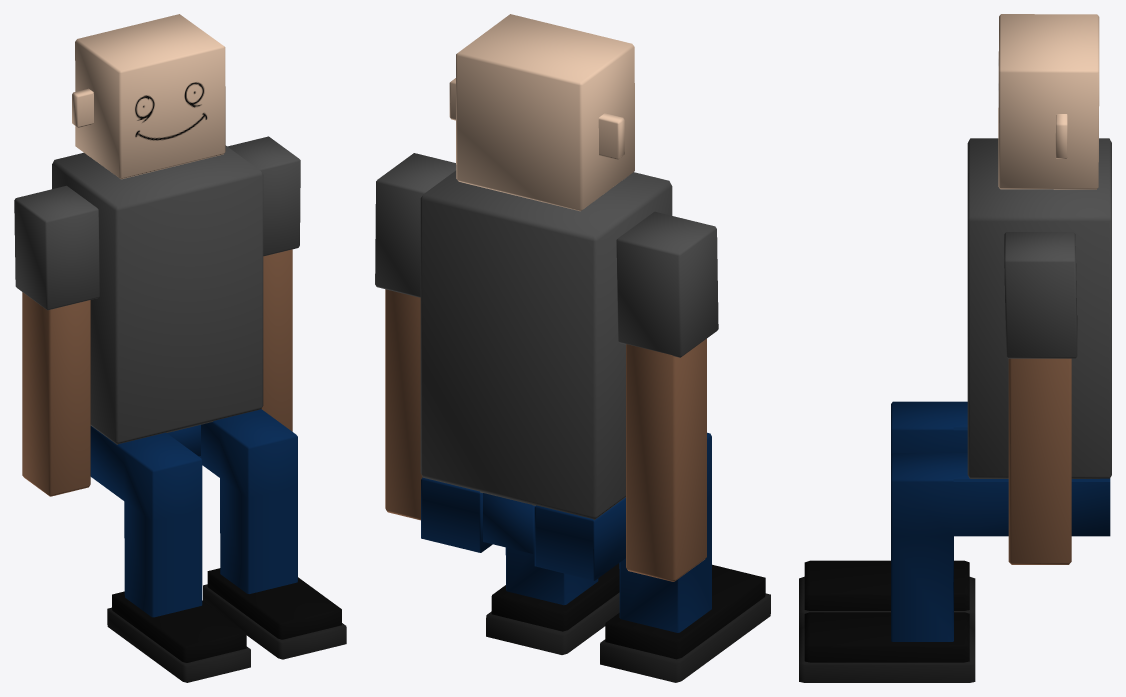
File: GenericSitting.FBX
3 renders of one model, left to right at view 1: azimuth 30°, elevation 25°; view 2: azimuth 150°, elevation 25°; view 3: azimuth 270°, elevation 25°, orthographic. The views are drawn at different scales.
Parts seen in each view (by area): view 1: Body, Ass, RArm, Head, LArm; view 2: Body, Ass, RArm, Head, LArm; view 3: Ass, Body, LArm, Head.
Part boxes in pixels (left/top/right/bottom): Body: left=52, top=145, right=263, bottom=444; Ass: left=90, top=409, right=346, bottom=682; RArm: left=14, top=185, right=99, bottom=496; Head: left=72, top=14, right=225, bottom=179; LArm: left=227, top=136, right=300, bottom=431; Body: left=420, top=170, right=672, bottom=520; Ass: left=421, top=432, right=770, bottom=682; RArm: left=616, top=211, right=718, bottom=581; Head: left=449, top=14, right=634, bottom=211; LArm: left=375, top=153, right=456, bottom=520; Ass: left=799, top=401, right=1110, bottom=682; Body: left=967, top=138, right=1111, bottom=478; LArm: left=1004, top=232, right=1077, bottom=564; Head: left=998, top=14, right=1099, bottom=189.
Bounding box in the file's own units: 133 × 268 × 128.
